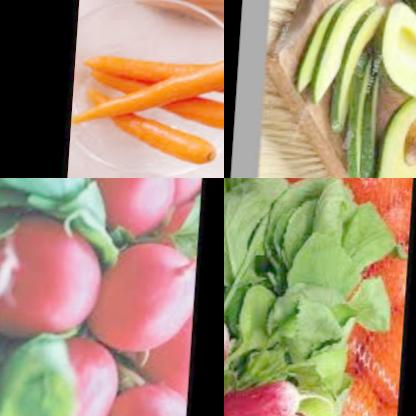avocado: (293, 0, 389, 178), (388, 0, 416, 99), (390, 84, 416, 178)
carrot: (79, 52, 224, 125), (75, 78, 224, 125), (85, 110, 224, 159), (82, 44, 224, 88)
rediska: (224, 311, 360, 416), (0, 217, 106, 333), (96, 238, 201, 352), (0, 335, 126, 416), (76, 178, 183, 230), (102, 382, 192, 416), (155, 328, 196, 399), (154, 178, 205, 204)
